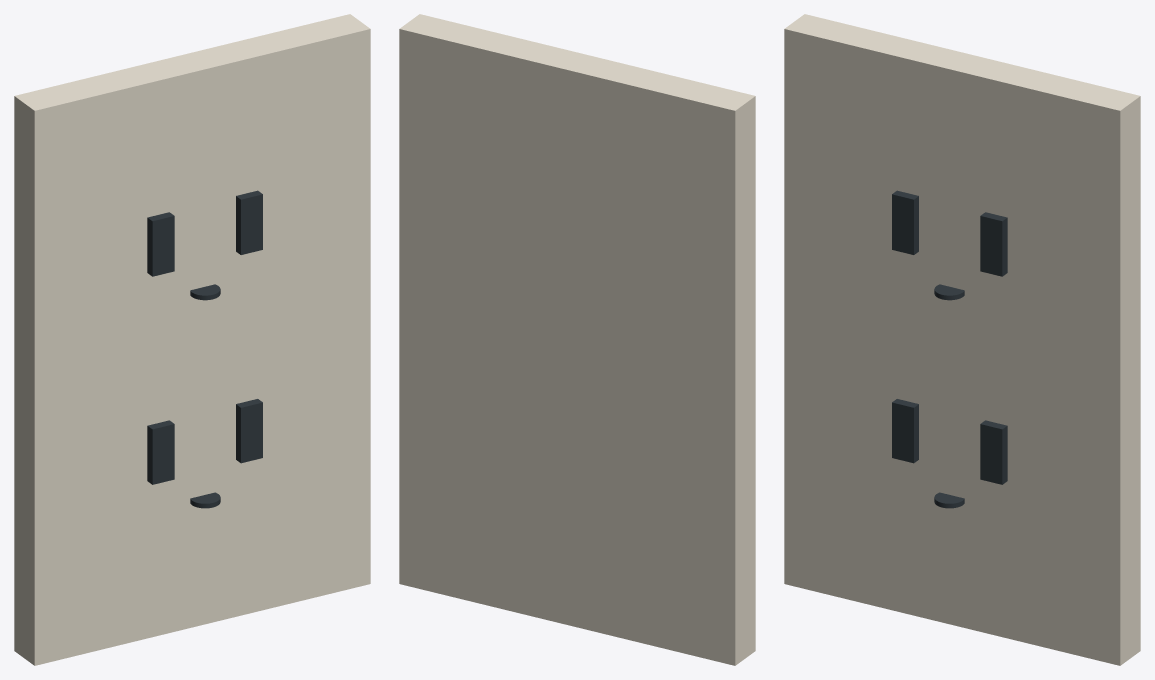
The model's file is power_outlet.glb.
3 renders of one model, left to right at view 1: azimuth 30°, elevation 25°; view 2: azimuth 150°, elevation 25°; view 3: azimuth 330°, elevation 25°, orthographic.
Visible parts, largest first — view 1: Face plate, Slot, Slot.002, Slot.001, Slot.003; view 2: Face plate; view 3: Face plate, Slot.001, Slot.003, Slot, Slot.002.
Part boxes in pixels (box(x1,y1,x2,y2)): Face plate: box(14, 14, 370, 665); Slot: box(147, 420, 174, 484); Slot.002: box(147, 212, 174, 276); Slot.001: box(236, 399, 262, 463); Slot.003: box(236, 190, 262, 254); Face plate: box(399, 14, 755, 665); Face plate: box(784, 14, 1140, 665); Slot.001: box(980, 420, 1007, 484); Slot.003: box(980, 212, 1007, 276); Slot: box(892, 399, 918, 463); Slot.002: box(892, 190, 918, 254).
Size of the model in its own units: 0.076 by 0.12 by 0.012.
